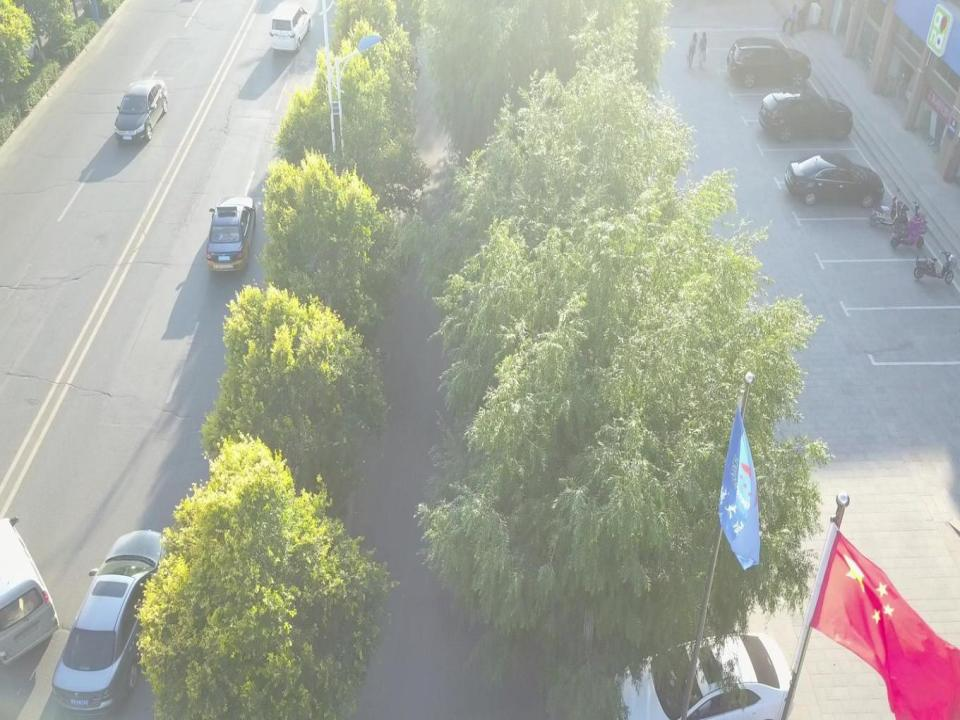car: (50, 526, 174, 703), (759, 90, 854, 142), (786, 161, 884, 206), (726, 40, 810, 88), (207, 198, 255, 273), (115, 81, 168, 142), (270, 3, 310, 54)
van: (0, 516, 58, 662)
